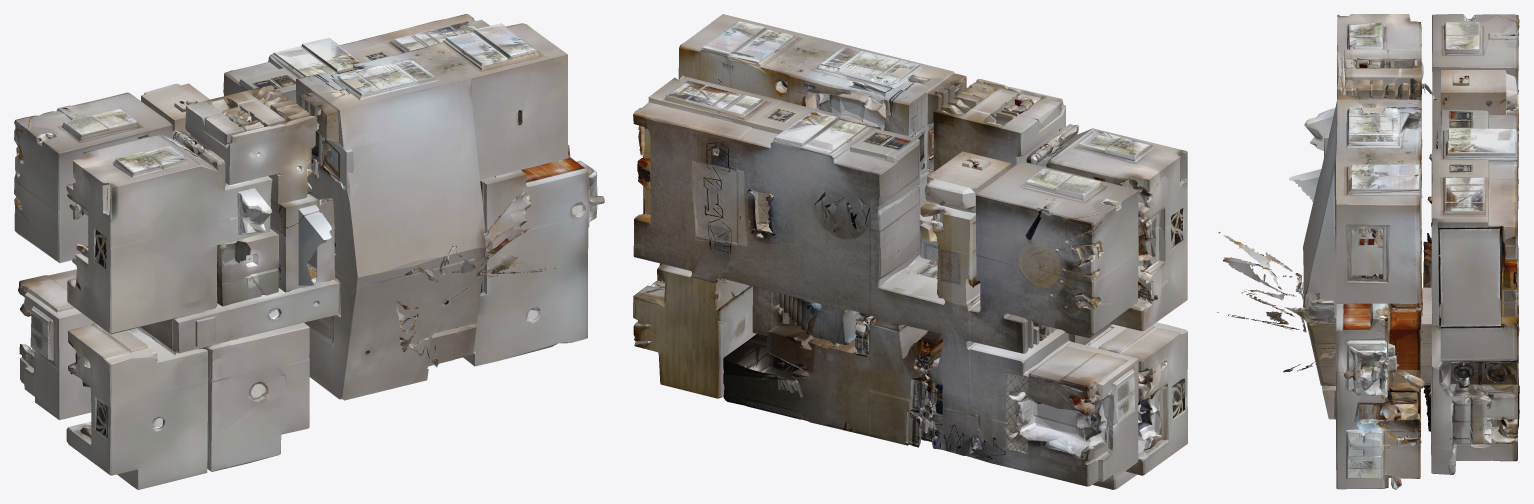
File: house.obj
3 renders of one model, left to right at view 1: azimuth 30°, elevation 25°; view 2: azimuth 150°, elevation 25°; view 3: azimuth 270°, elevation 25°, orthographic. The views are drawn at different scales.
Parts seen in each view (by area): view 1: chunk001_group001_sub012_chunk262210, chunk001_group001_sub012_chunk262211, chunk004_group001_sub012_chunk262209, chunk004_group001_sub014_chunk262146, chunk005_group001_sub013_chunk262212, chunk005_group001_sub014_chunk262147, chunk003_group001_sub016_chunk262145, chunk005_group001_sub017_chunk262146, chunk001_group000_sub005_chunk262146, chunk002_group001_sub015_chunk262145, chunk007_group001_sub016_chunk262147, chunk002_group001_sub013_chunk262211 (+18 smaller); view 2: chunk000_group000_sub002_chunk262210, chunk000_group000_sub002_chunk262211, chunk001_group000_sub005_chunk262146, chunk000_group000_sub004_chunk262147, chunk001_group001_sub012_chunk262210, chunk002_group000_sub006_chunk262212, chunk001_group000_sub004_chunk262145, chunk001_group000_sub003_chunk262209, chunk001_group000_sub005_chunk262147, chunk004_group001_sub014_chunk262146, chunk005_group001_sub017_chunk262146, chunk001_group001_sub012_chunk262211 (+16 smaller); view 3: chunk000_group000_sub002_chunk262211, chunk001_group001_sub012_chunk262211, chunk005_group001_sub013_chunk262212, chunk002_group000_sub006_chunk262212, chunk001_group001_sub012_chunk262210, chunk002_group001_sub013_chunk262211, chunk001_group000_sub005_chunk262146, chunk000_group000_sub002_chunk262210, chunk005_group001_sub017_chunk262146, chunk002_group000_sub007_chunk262146, chunk004_group001_sub014_chunk262146, chunk004_group001_sub012_chunk262212 (+5 smaller).
Part boxes in pixels (left/top/right/bottom): chunk001_group001_sub012_chunk262210: left=296, top=49, right=477, bottom=288; chunk001_group001_sub012_chunk262211: left=416, top=23, right=568, bottom=273; chunk004_group001_sub012_chunk262209: left=304, top=260, right=465, bottom=400; chunk004_group001_sub014_chunk262146: left=66, top=130, right=228, bottom=248; chunk005_group001_sub013_chunk262212: left=463, top=204, right=597, bottom=366; chunk005_group001_sub014_chunk262147: left=67, top=218, right=228, bottom=334; chunk003_group001_sub016_chunk262145: left=66, top=373, right=207, bottom=489; chunk005_group001_sub017_chunk262146: left=185, top=85, right=315, bottom=204; chunk001_group000_sub005_chunk262146: left=14, top=92, right=172, bottom=213; chunk002_group001_sub015_chunk262145: left=207, top=358, right=309, bottom=471; chunk007_group001_sub016_chunk262147: left=67, top=323, right=207, bottom=407; chunk002_group001_sub013_chunk262211: left=480, top=145, right=604, bottom=272; chunk000_group000_sub002_chunk262210: left=736, top=101, right=909, bottom=314; chunk000_group000_sub002_chunk262211: left=633, top=75, right=781, bottom=282; chunk001_group000_sub005_chunk262146: left=976, top=161, right=1138, bottom=284; chunk000_group000_sub004_chunk262147: left=968, top=329, right=1138, bottom=429; chunk001_group001_sub012_chunk262210: left=787, top=41, right=966, bottom=214; chunk002_group000_sub006_chunk262212: left=633, top=264, right=756, bottom=398; chunk001_group000_sub004_chunk262145: left=931, top=399, right=1138, bottom=486; chunk001_group000_sub003_chunk262209: left=744, top=312, right=873, bottom=436; chunk001_group000_sub005_chunk262147: left=976, top=236, right=1138, bottom=338; chunk004_group001_sub014_chunk262146: left=1026, top=124, right=1187, bottom=238; chunk005_group001_sub017_chunk262146: left=933, top=79, right=1065, bottom=171; chunk001_group001_sub012_chunk262211: left=678, top=14, right=832, bottom=101; chunk000_group000_sub002_chunk262211: left=1427, top=174, right=1517, bottom=360; chunk001_group001_sub012_chunk262211: left=1251, top=153, right=1422, bottom=321; chunk005_group001_sub013_chunk262212: left=1308, top=321, right=1424, bottom=489; chunk002_group000_sub006_chunk262212: left=1431, top=327, right=1517, bottom=474; chunk001_group001_sub012_chunk262210: left=1218, top=95, right=1421, bottom=299; chunk002_group001_sub013_chunk262211: left=1217, top=282, right=1421, bottom=382; chunk001_group000_sub005_chunk262146: left=1432, top=14, right=1519, bottom=124; chunk000_group000_sub002_chunk262210: left=1429, top=114, right=1518, bottom=228; chunk005_group001_sub017_chunk262146: left=1337, top=49, right=1421, bottom=151; chunk002_group000_sub007_chunk262146: left=1440, top=70, right=1518, bottom=145; chunk004_group001_sub014_chunk262146: left=1337, top=14, right=1436, bottom=99; chunk004_group001_sub012_chunk262212: left=1255, top=316, right=1421, bottom=419.
Size of the model in its own units: 15.5 by 10.14 by 8.46.
Materials: 8 (8 with a texture image).
